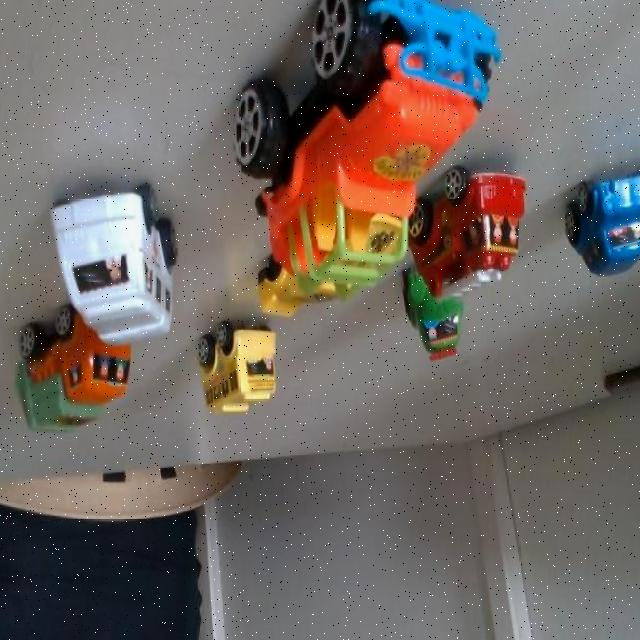car: (356, 0, 510, 175), (277, 181, 418, 317), (69, 201, 187, 329), (441, 151, 536, 295), (40, 308, 146, 435), (567, 154, 640, 286), (412, 260, 484, 359), (225, 327, 287, 416)
